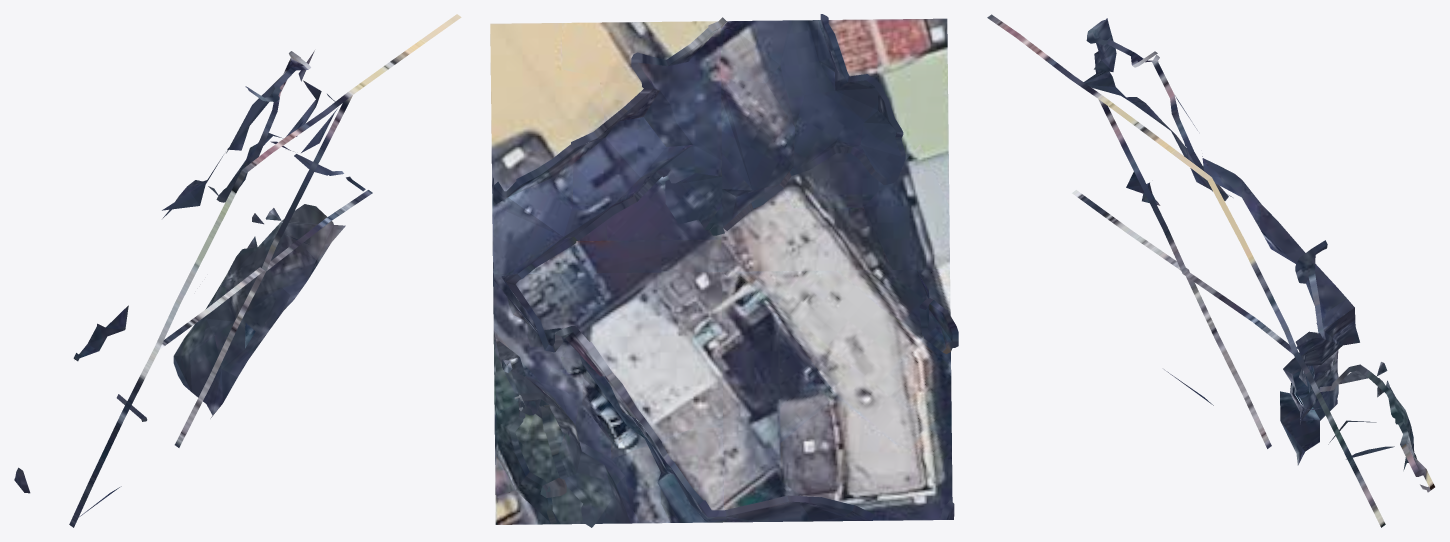
3 renders of one model, left to right at view 1: azimuth 30°, elevation 25°; view 2: azimuth 150°, elevation 25°; view 3: azimuth 270°, elevation 25°, orthographic. The views are drawn at different scales.
Bounding box in the file's own units: 40.84 × 37.71 × 35.69.
1 material, 1 textured.
